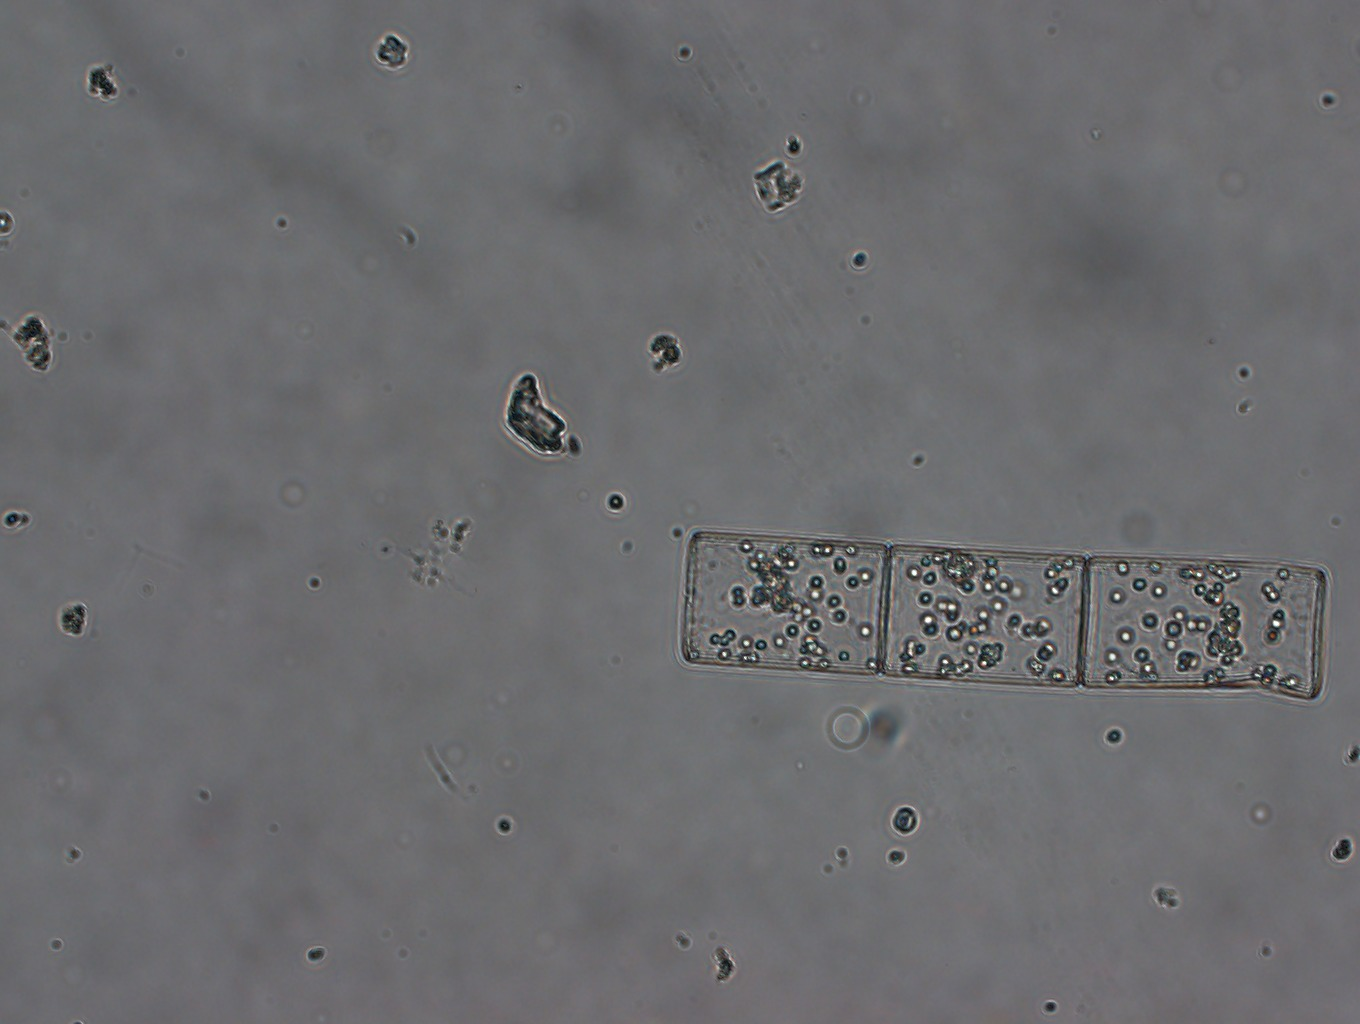guinardia flaccida: (670, 513, 1334, 711)
